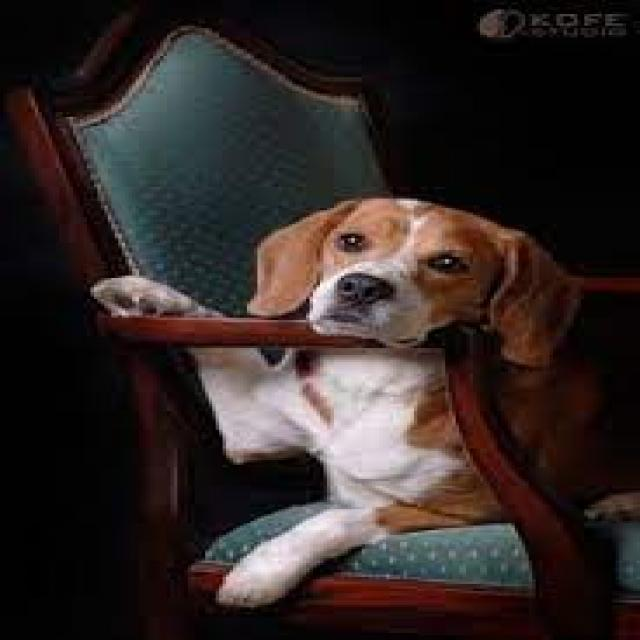Dog: (83, 192, 640, 612)
